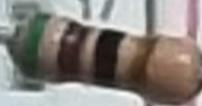Black: (89, 29, 128, 88)
Brown: (51, 18, 93, 84)
Green: (18, 10, 55, 78)
Side-Gold: (128, 34, 163, 99)
